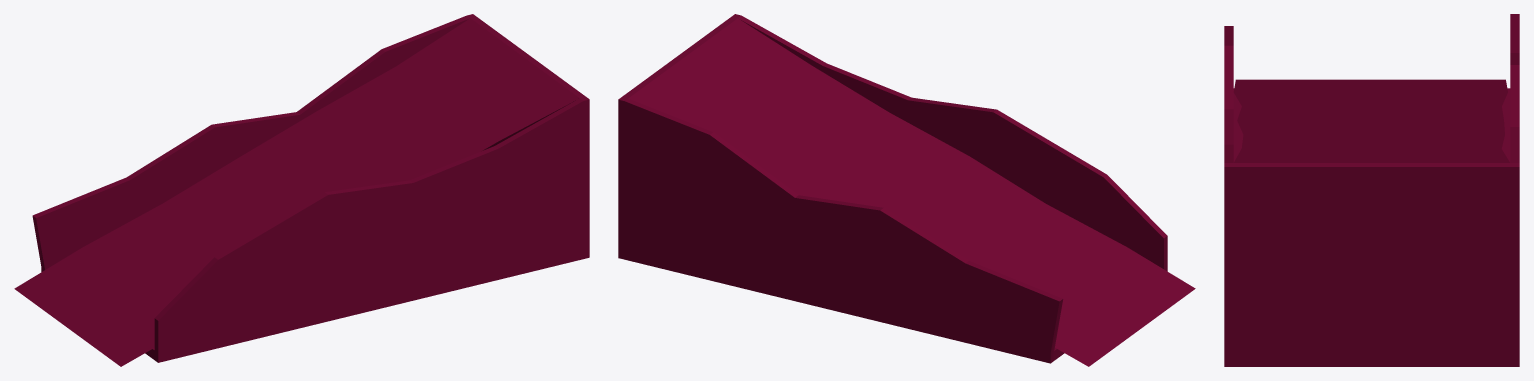
The model's file is MESH_RuinedTrailer_Ramp.fbx.
3 renders of one model, left to right at view 1: azimuth 30°, elevation 25°; view 2: azimuth 150°, elevation 25°; view 3: azimuth 270°, elevation 25°, orthographic. The views are drawn at different scales.
Visible parts, largest first — view 1: RuinedTrailer_Ramp; view 2: RuinedTrailer_Ramp; view 3: RuinedTrailer_Ramp.
Boxes of the visible parts, x1=… form: RuinedTrailer_Ramp: x1=14, y1=14, x2=589, y2=366; RuinedTrailer_Ramp: x1=618, y1=14, x2=1195, y2=366; RuinedTrailer_Ramp: x1=1224, y1=14, x2=1519, y2=366.
Bounding box in the file's own units: 8.37 × 2.73 × 3.65.
